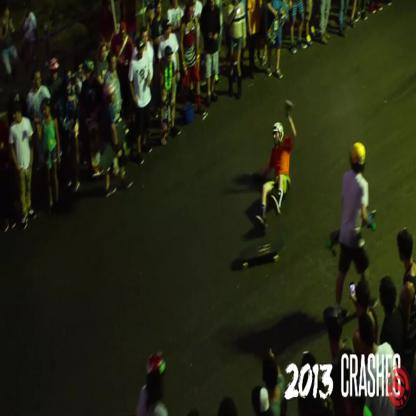Fall_Down: (249, 100, 297, 238)
